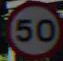Speed limit: (4, 4, 56, 53)
